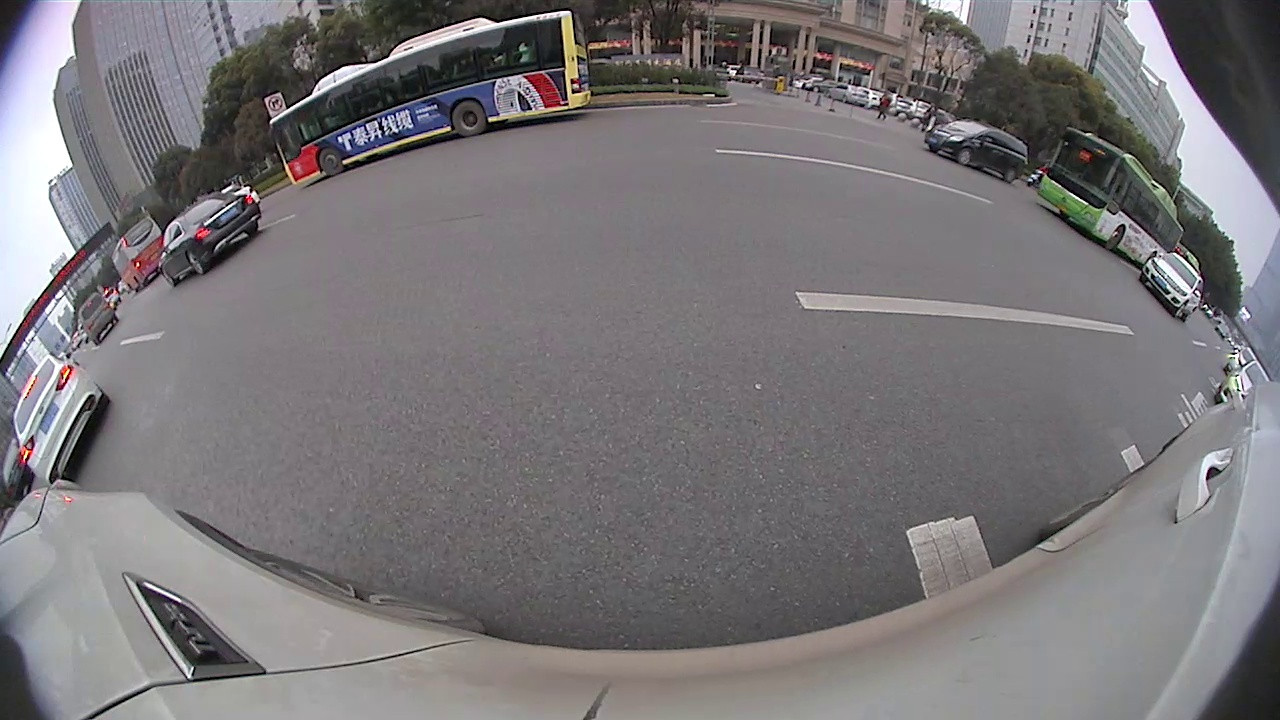bus: (267, 7, 593, 187), (1034, 123, 1187, 269), (110, 214, 167, 295)
car: (10, 349, 111, 488), (159, 190, 263, 289), (923, 115, 1031, 185), (1138, 250, 1206, 322), (1213, 357, 1273, 403), (75, 290, 120, 346), (1, 436, 36, 501), (1222, 345, 1259, 380)
front: (315, 140, 346, 178), (1099, 227, 1126, 253), (952, 147, 972, 166), (162, 267, 178, 289)
person: (879, 89, 891, 120)
rear: (450, 98, 489, 137), (187, 252, 207, 280), (93, 386, 112, 413), (242, 218, 261, 240), (1001, 166, 1017, 186)
